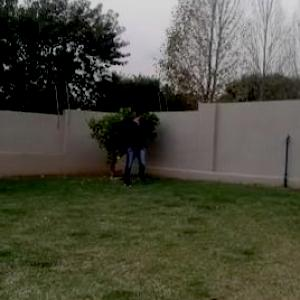follow: (125, 103, 147, 189)
